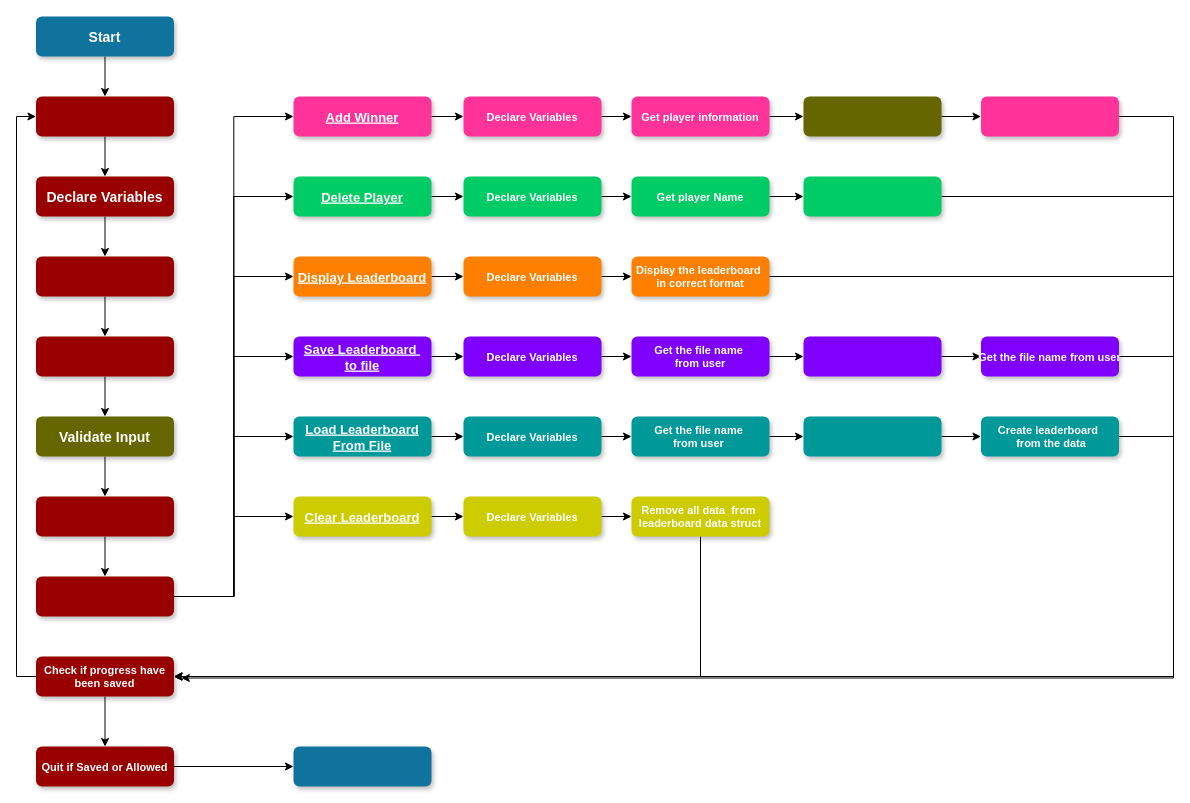
The diagram is 1190 pixels wide and 803 high, and some of its shapes have lost their labels. Each missing label, with the centre of its shape:
"Call appropriate funtion" belongs at point 106,597.
"Delete player or show error message" belongs at point 873,197.
"Display Menu" belongs at point 106,277.
"END" belongs at point 363,767.
"Get user Input" belongs at point 106,357.
"Main" belongs at point 106,117.
"Process user choice" belongs at point 106,517.
"Read the leaderboard from the file" belongs at point 873,437.
"Update or create player" belongs at point 1050,117.
"Validate user input" belongs at point 873,117.
"Write the leaderboard to the file" belongs at point 873,357.
